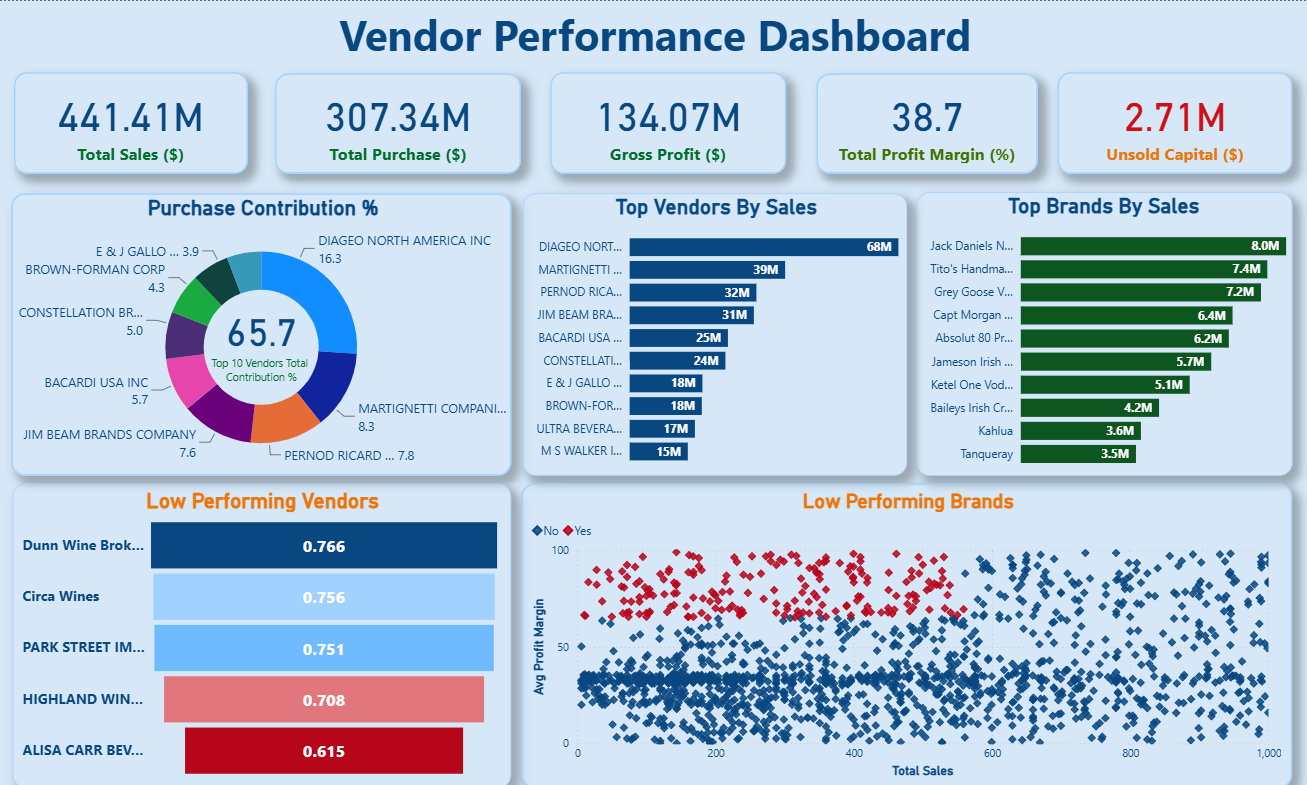

The page's visual inventory and layout, read from the dashboard file:
{"tool":"powerbi","page":{"name":"Page 1","canvas":[1500,900],"ordinal":0},"visuals":[{"type":"card","fields":{"Values":["Sum(vendor_sales_summary.TotalPurchaseDollars)"]},"box":[315.8,82.4,280.9,114.6],"z":0},{"type":"card","fields":{"Values":["Sum(vendor_sales_summary.TotalSalesDollars)"]},"box":[16.8,81,266.9,116],"z":1000},{"type":"card","fields":{"Values":["Sum(vendor_sales_summary.GrossProfit)"]},"box":[630.2,81,269.7,116],"z":2000},{"type":"card","fields":{"Values":["Avg(vendor_sales_summary.ProfitMargin)"]},"box":[934.8,82.4,252.9,114.6],"z":3000},{"type":"card","fields":{"Values":["Sum(vendor_sales_summary.UnsoldCapital)"]},"box":[1210.1,81,268.3,116],"z":4000},{"type":"textbox","box":[0,0,1500,83],"z":5000},{"type":"donutChart","title":"Purchase Contribution % ","fields":{"Category":["PurchaseContribution.VendorName"],"Y":["Sum(PurchaseContribution.PurchaseContribution%)"]},"box":[14.5,219.4,571,322.6],"z":6000},{"type":"card","fields":{"Values":["Sum(PurchaseContribution.PurchaseContribution%)"]},"box":[205.8,265.3,188.2,233.3],"z":7000},{"type":"barChart","title":"Top Vendors By Sales","fields":{"Category":["vendor_sales_summary.VendorName"],"Y":["Sum(vendor_sales_summary.TotalSalesDollars)"]},"box":[597.9,219.6,439.2,322.2],"z":8000},{"type":"barChart","title":"Top Brands By Sales","fields":{"Category":["vendor_sales_summary.Description"],"Y":["Sum(vendor_sales_summary.TotalSalesDollars)"]},"box":[1048.3,218,429.6,323.8],"z":9000},{"type":"funnel","title":"Low Performing Vendors","fields":{"Category":["LowTurnoverVendor.VendorName"],"Y":["Avg(LowTurnoverVendor.AvgStockTurnOver)"]},"box":[16.1,551.6,569.4,348.4],"z":10000},{"type":"scatterChart","title":"Low Performing Brands","fields":{"Category":["BrandPerformance.Description"],"Series":["BrandPerformance.TargetBrand"],"X":["Sum(BrandPerformance.TotalSales)"],"Y":["Sum(BrandPerformance.AvgProfitMargin)"]},"box":[596.8,551.6,880.6,348.4],"z":11000}]}

Visuals, with their boxes in screenshot pixels (x1, y1, x2, y2), scaled from the page's 1500x900 canvas onto the 1307x785 screenshot:
card - Sum(vendor_sales_summary.TotalPurchaseDollars): <bbox>275, 72, 520, 172</bbox>
card - Sum(vendor_sales_summary.TotalSalesDollars): <bbox>15, 71, 247, 172</bbox>
card - Sum(vendor_sales_summary.GrossProfit): <bbox>549, 71, 784, 172</bbox>
card - Avg(vendor_sales_summary.ProfitMargin): <bbox>815, 72, 1035, 172</bbox>
card - Sum(vendor_sales_summary.UnsoldCapital): <bbox>1054, 71, 1288, 172</bbox>
textbox: <bbox>0, 0, 1306, 72</bbox>
"Purchase Contribution % " donutChart: <bbox>13, 191, 510, 473</bbox>
card - Sum(PurchaseContribution.PurchaseContribution%): <bbox>179, 231, 343, 435</bbox>
"Top Vendors By Sales" barChart: <bbox>521, 192, 904, 473</bbox>
"Top Brands By Sales" barChart: <bbox>913, 190, 1288, 473</bbox>
"Low Performing Vendors" funnel: <bbox>14, 481, 510, 784</bbox>
"Low Performing Brands" scatterChart: <bbox>520, 481, 1287, 784</bbox>
